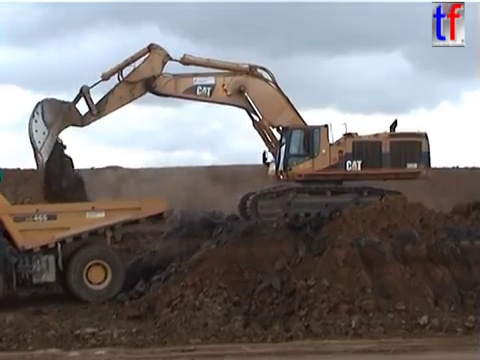excavator: (25, 40, 434, 230)
truck: (1, 192, 169, 303)
